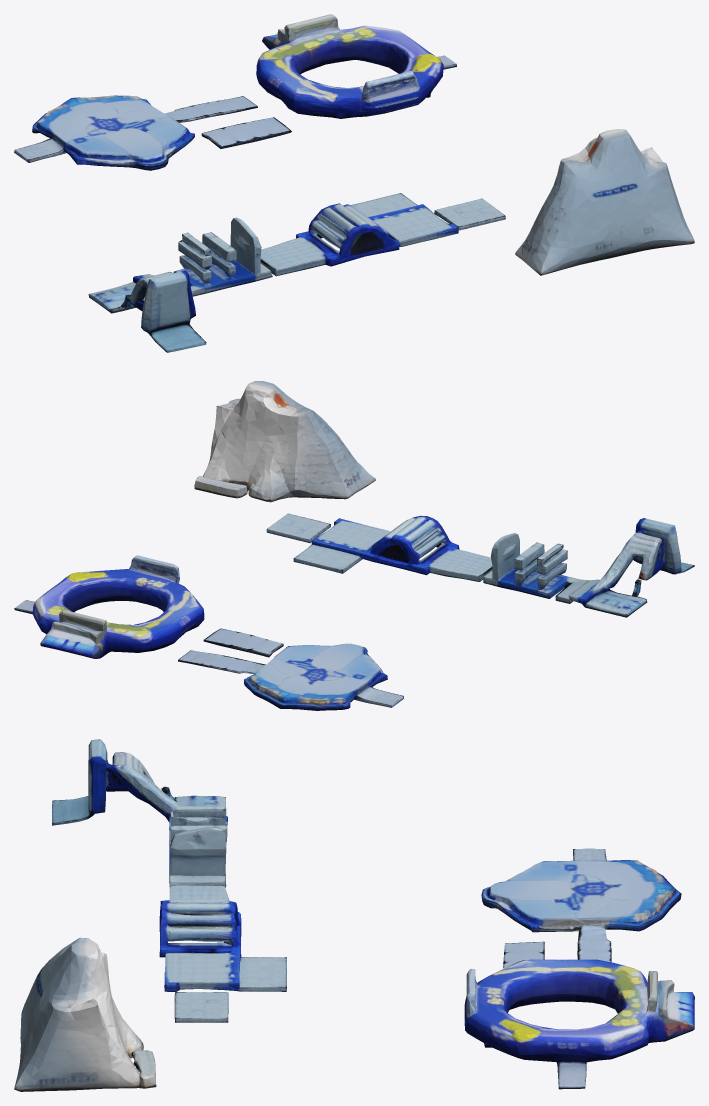
Rendered from Water_Games.glb.
3 renders of one model, top to bottom at view 1: azimuth 30°, elevation 25°; view 2: azimuth 150°, elevation 25°; view 3: azimuth 270°, elevation 25°, orthographic. The views are drawn at different scales.
Parts seen in each view (by area): view 1: world; view 2: world; view 3: world.
Part boxes in pixels (x1=…): world: x1=14, y1=14, x2=694, y2=352; world: x1=14, y1=381, x2=694, y2=710; world: x1=14, y1=739, x2=694, y2=1091.
Size of the model in its own units: 0.9959 by 0.1862 by 0.9957.
Materials: 1 (1 with a texture image).
